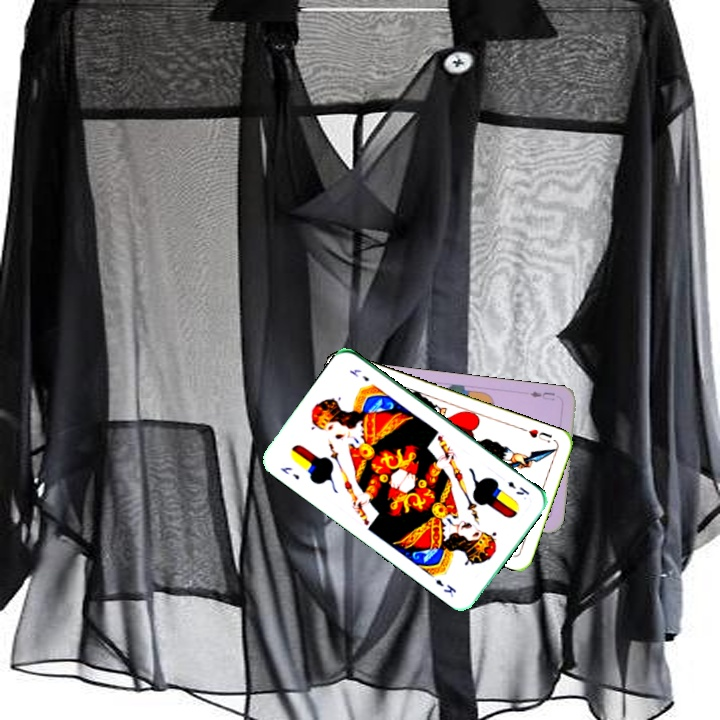EK: (504, 477, 532, 498), (276, 463, 302, 482)
EU: (526, 387, 557, 403)
HU: (518, 424, 555, 445)
